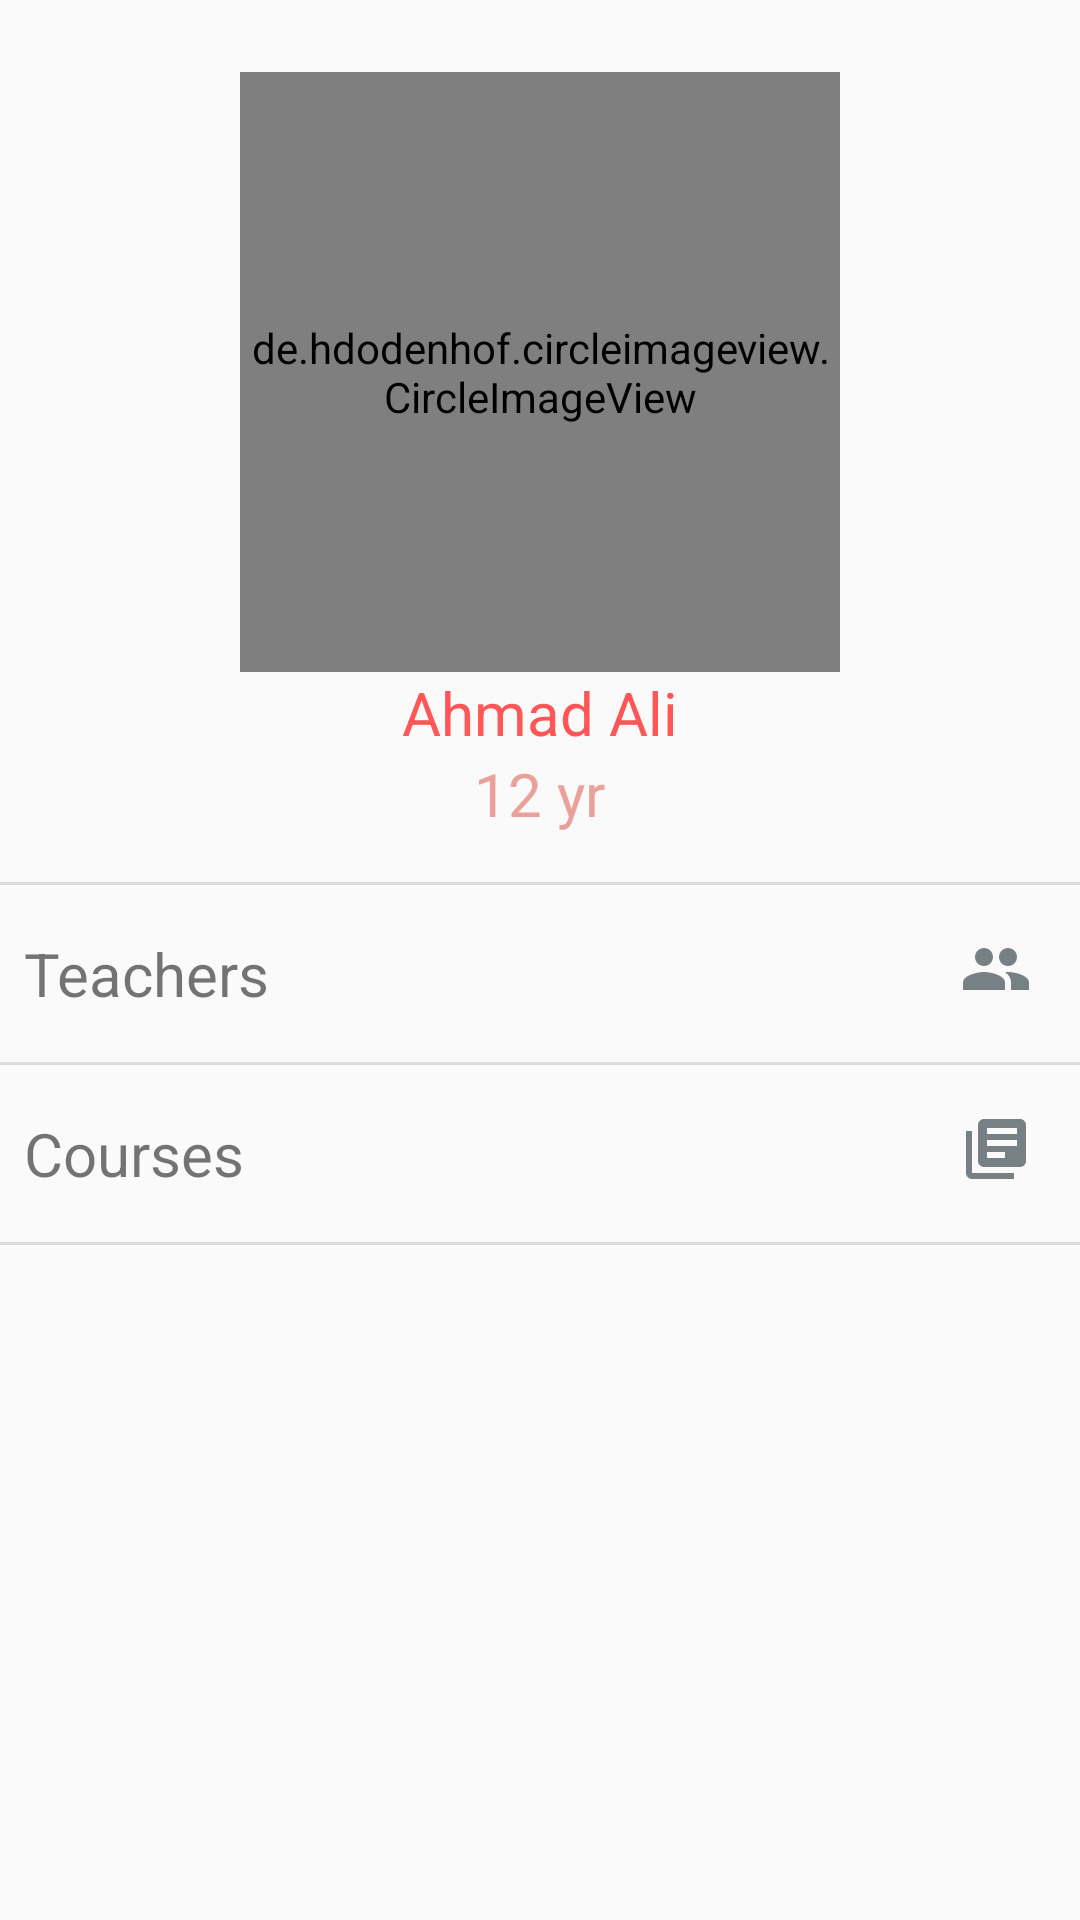

Icon bounding boxes for this 1080px×1920px phone screenshot, format (x1, y1, x2, y2):
library books: (966, 1119, 1026, 1179)
people: (963, 948, 1029, 990)
